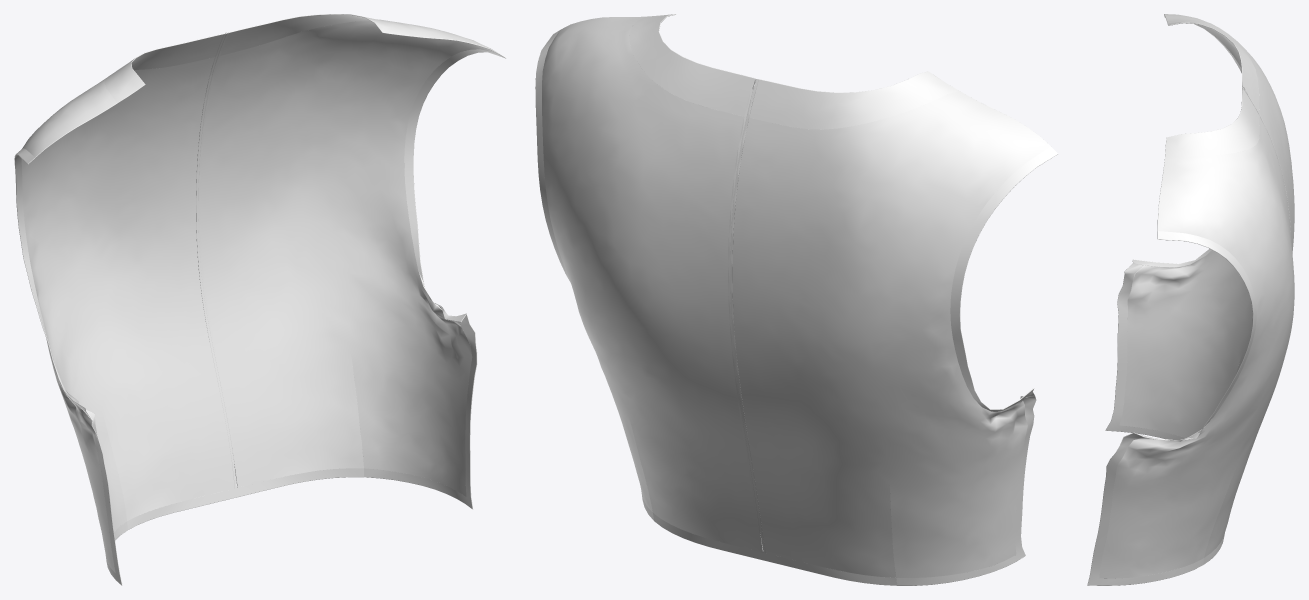
File: zip_in_the_back.glb
3 views of the same model, side by side, from view 1: azimuth 30°, elevation 25°; view 2: azimuth 150°, elevation 25°; view 3: azimuth 270°, elevation 25° (orthographic). The views are drawn at different scales.
Visible parts, largest first — view 1: zip_in_the_back_Node, zip_in_the_back_2_Node, contrast_Node, contrast_1_Node, zip_in_the_back_3_Node, zip_in_the_back_8_Node, zip_in_the_back_4_Node, zip_in_the_back_1_Node, MatShape_337570_Node, MatShape_337578_Node, zip_in_the_back_9_Node; view 2: zip_in_the_back_2_Node, zip_in_the_back_Node, contrast_Node, contrast_1_Node, zip_in_the_back_1_Node, zip_in_the_back_8_Node, zip_in_the_back_9_Node, zip_in_the_back_3_Node, MatShape_337578_Node, MatShape_337570_Node; view 3: zip_in_the_back_Node, zip_in_the_back_2_Node, contrast_1_Node, zip_in_the_back_4_Node, zip_in_the_back_9_Node, zip_in_the_back_3_Node, contrast_Node, zip_in_the_back_1_Node.
Boxes of the visible parts, x1,y1,x2,y2 form: zip_in_the_back_Node: (200, 20, 499, 496); zip_in_the_back_2_Node: (21, 57, 234, 572); contrast_Node: (104, 33, 223, 103); contrast_1_Node: (220, 14, 412, 55); zip_in_the_back_3_Node: (404, 49, 506, 322); zip_in_the_back_8_Node: (127, 468, 363, 529); zip_in_the_back_4_Node: (364, 313, 477, 509); zip_in_the_back_1_Node: (14, 148, 85, 410); MatShape_337570_Node: (198, 33, 239, 487); MatShape_337578_Node: (196, 34, 236, 488); zip_in_the_back_9_Node: (81, 408, 127, 585); zip_in_the_back_2_Node: (732, 91, 1050, 577); zip_in_the_back_Node: (542, 16, 760, 551); contrast_Node: (749, 71, 958, 129); contrast_1_Node: (629, 14, 753, 116); zip_in_the_back_1_Node: (950, 146, 1057, 411); zip_in_the_back_8_Node: (653, 513, 897, 585); zip_in_the_back_9_Node: (896, 392, 1036, 585); zip_in_the_back_3_Node: (535, 30, 570, 282); MatShape_337578_Node: (730, 79, 765, 553); MatShape_337570_Node: (728, 78, 762, 552); zip_in_the_back_Node: (1099, 115, 1294, 578); zip_in_the_back_2_Node: (1119, 14, 1294, 437); contrast_1_Node: (1164, 88, 1259, 160); zip_in_the_back_4_Node: (1087, 432, 1203, 585); zip_in_the_back_9_Node: (1105, 263, 1185, 439); zip_in_the_back_3_Node: (1139, 231, 1256, 440); contrast_Node: (1167, 21, 1259, 111); zip_in_the_back_1_Node: (1132, 16, 1241, 267).
Size of the model in its own units: 37.43 by 35.25 by 15.19.
41 materials, 14 textured.
